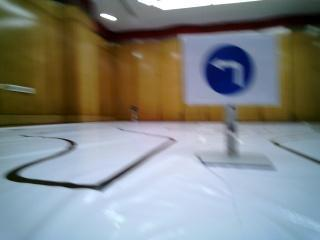left: (183, 37, 268, 100)
